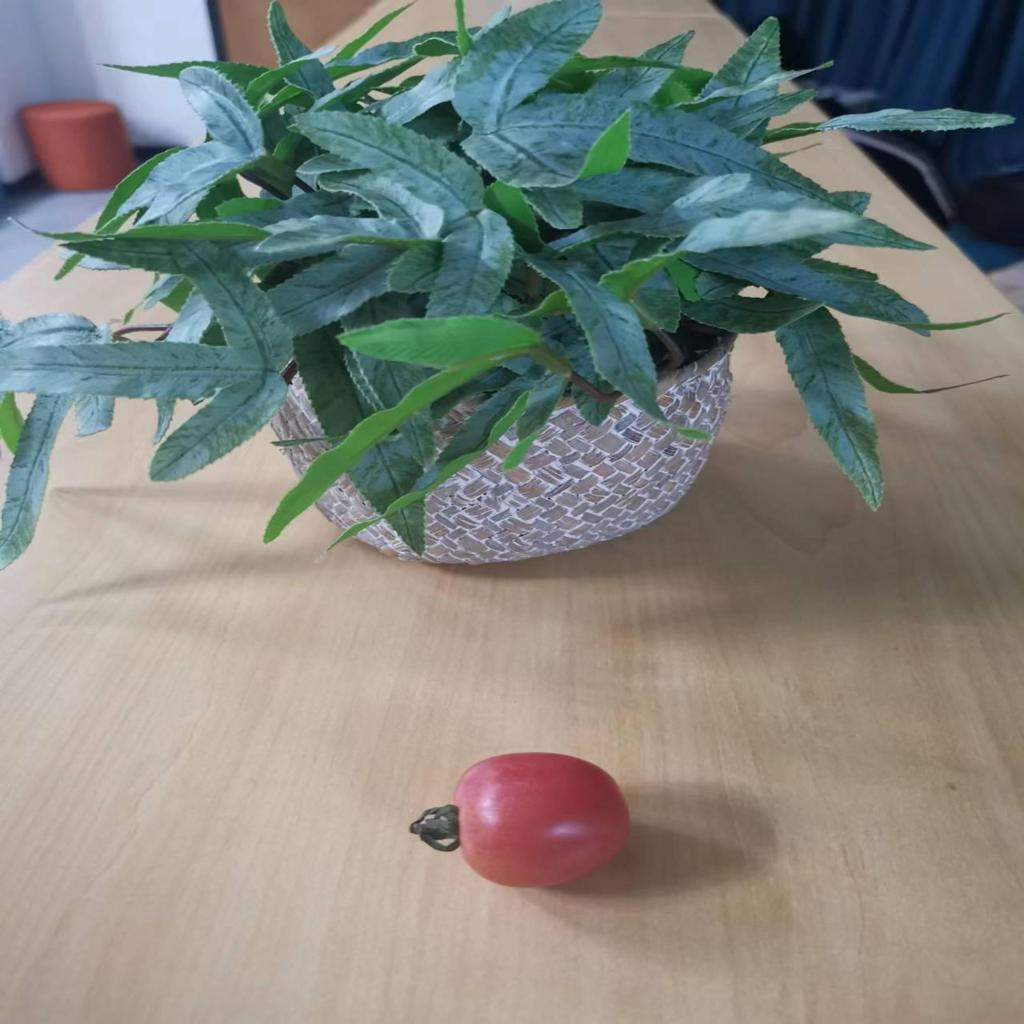tomato: (445, 751, 642, 891)
